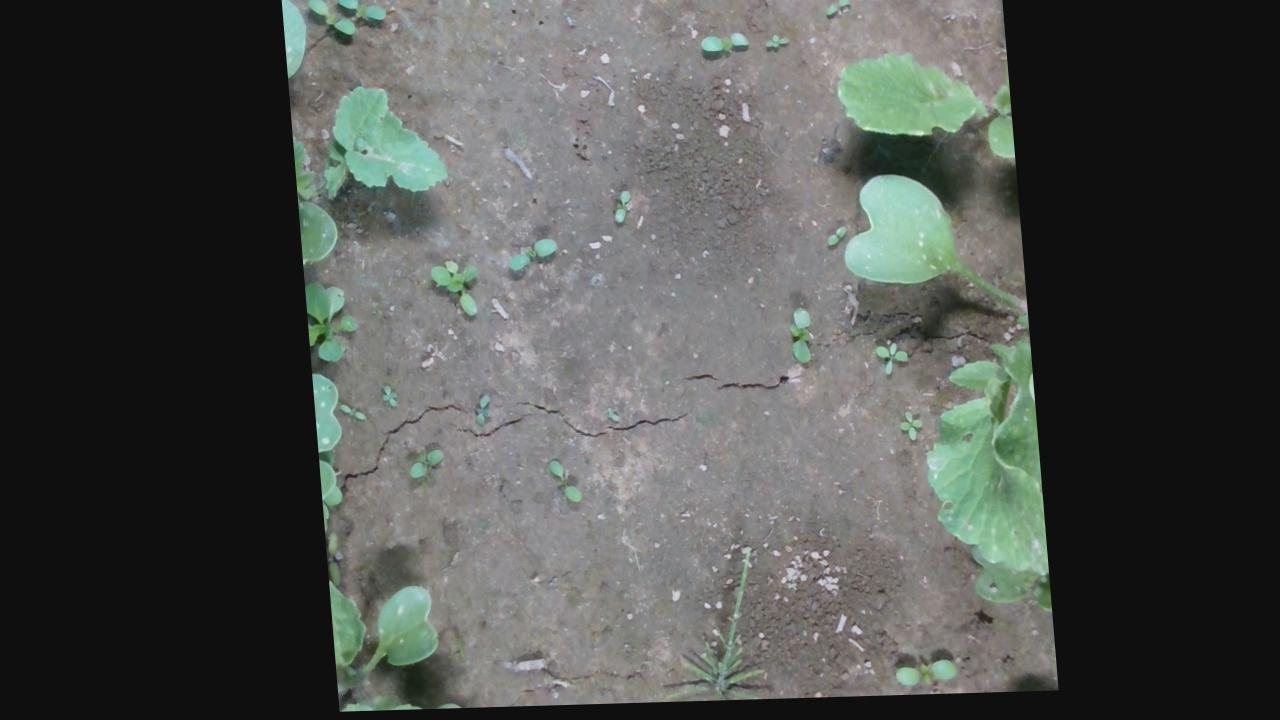weed: (500, 239, 556, 274), (880, 662, 947, 691), (782, 308, 812, 367), (539, 461, 575, 506), (868, 346, 905, 380), (698, 34, 751, 57), (398, 450, 437, 480), (892, 413, 920, 446), (608, 192, 630, 227), (466, 395, 488, 428), (822, 1, 853, 21), (332, 404, 360, 422), (374, 384, 394, 409), (820, 229, 843, 250), (763, 37, 791, 53)
